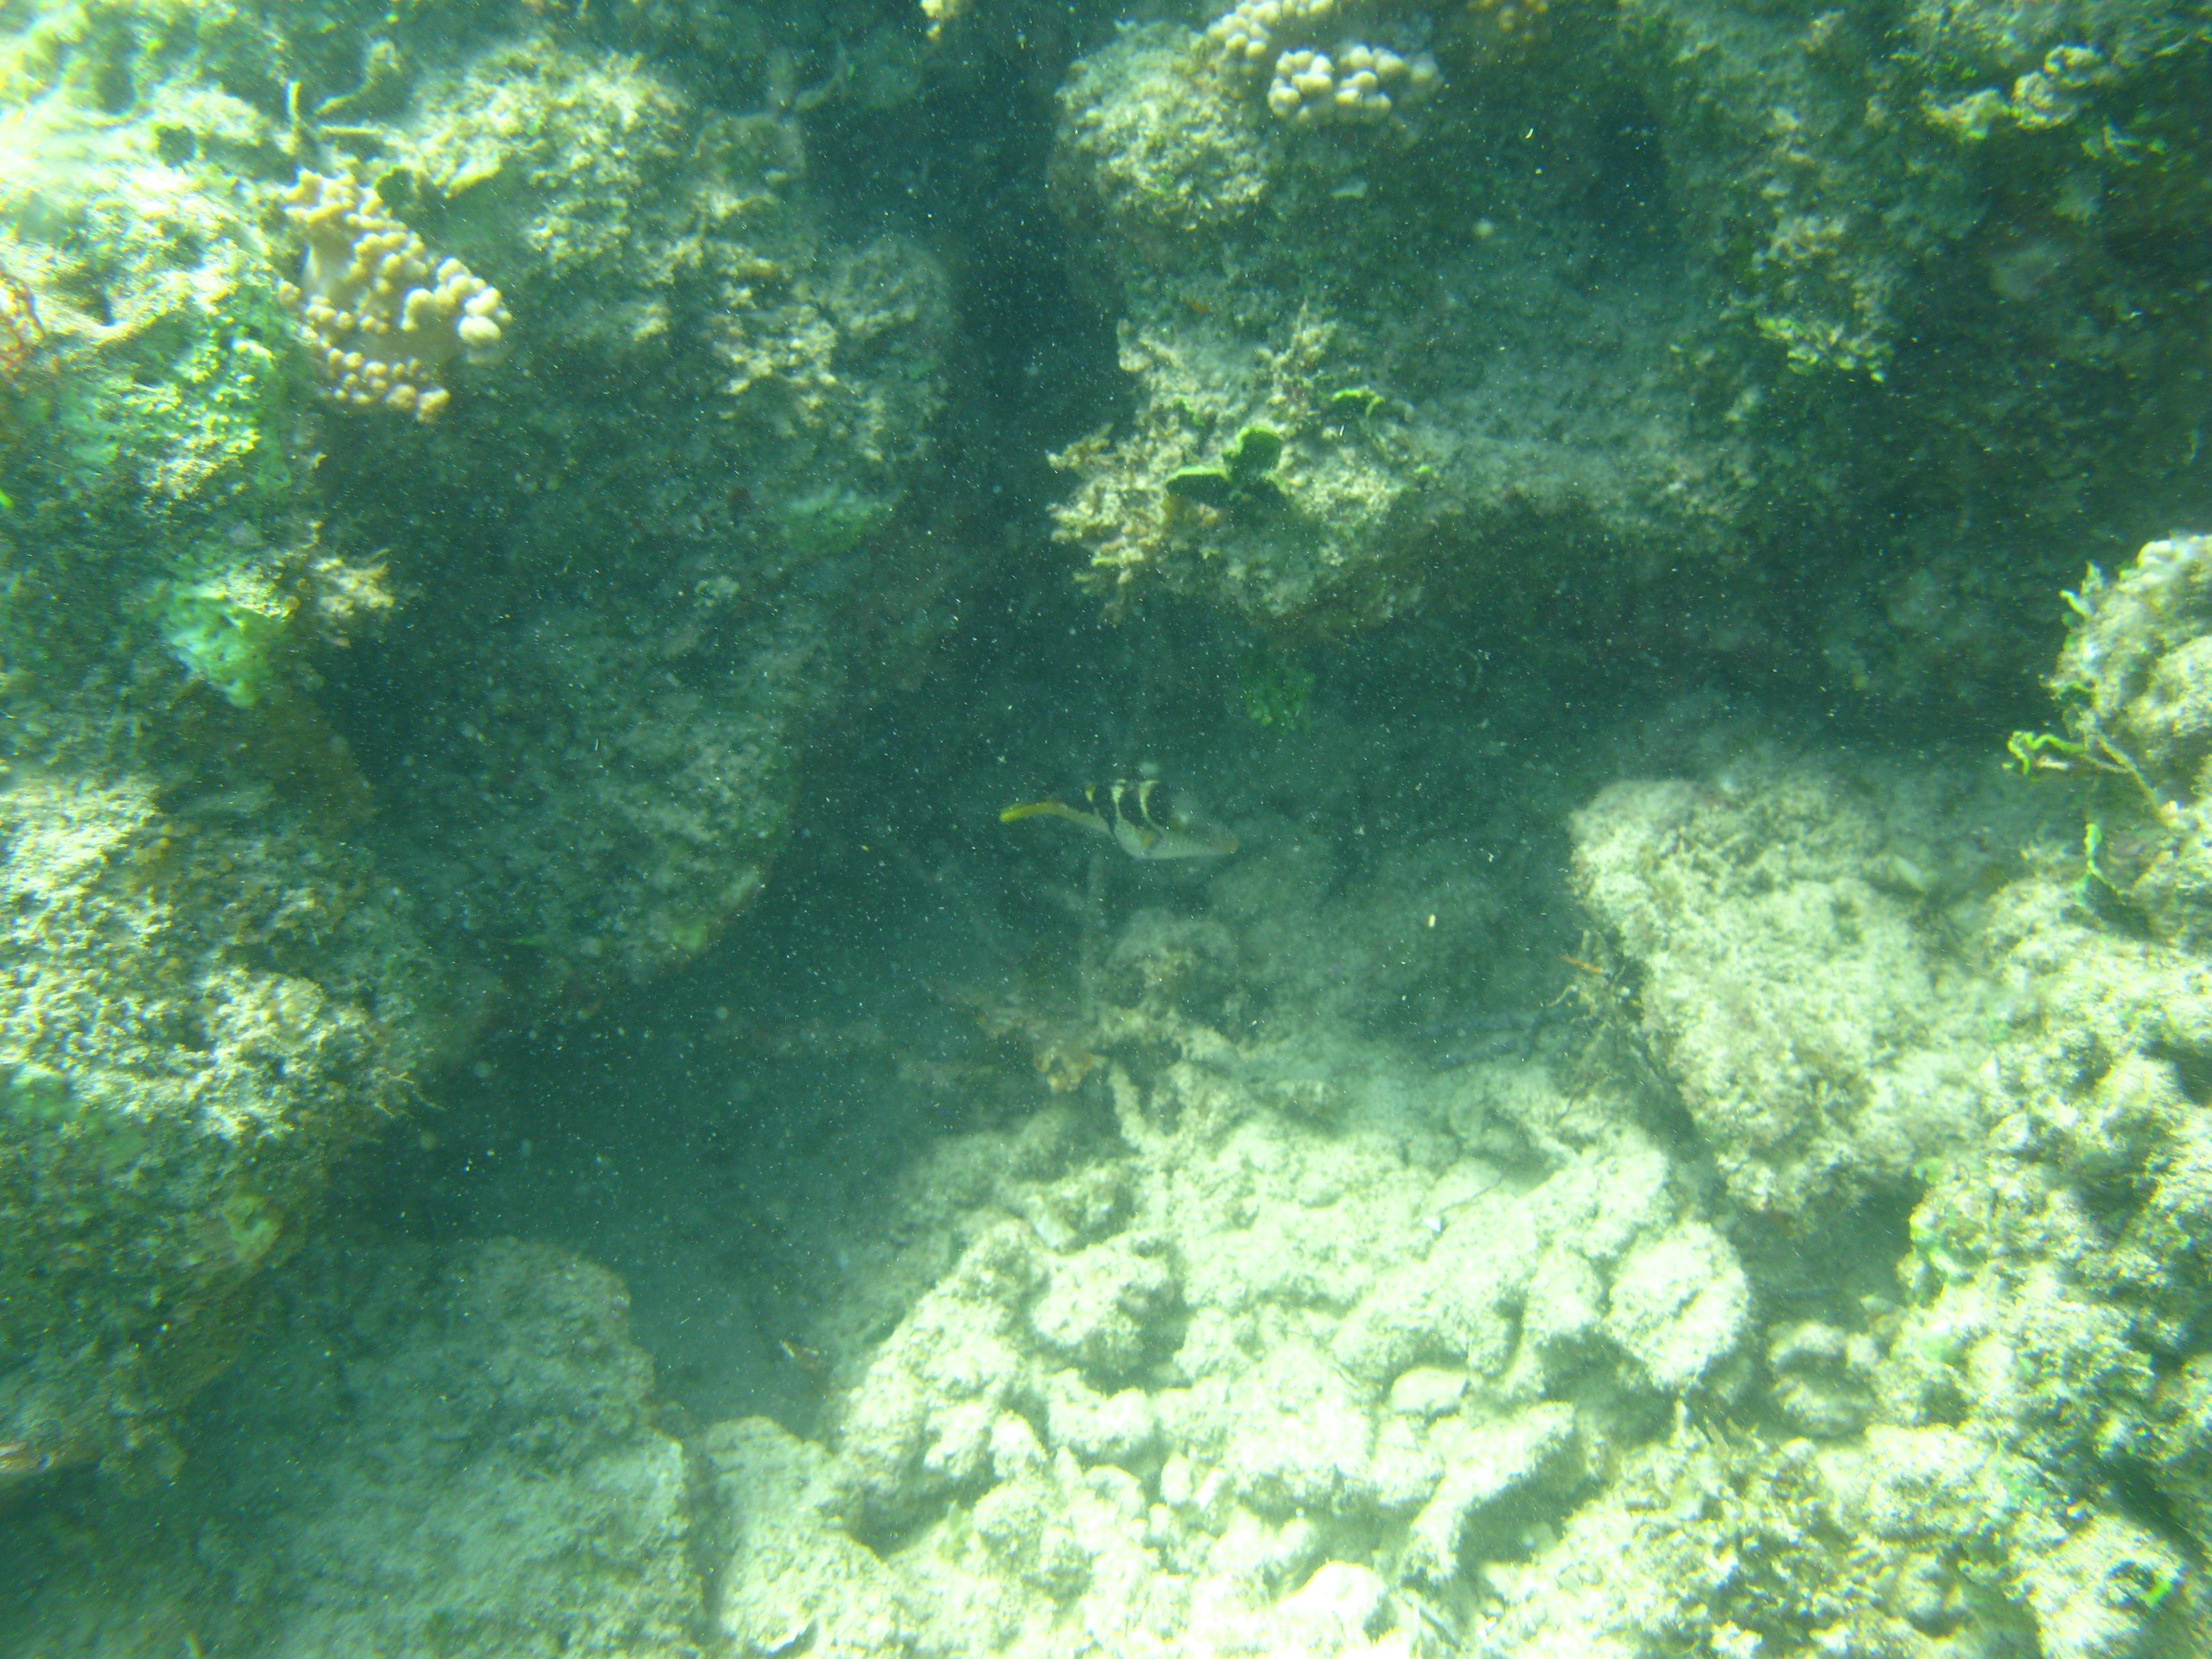Fish: (960, 694, 1322, 962)
